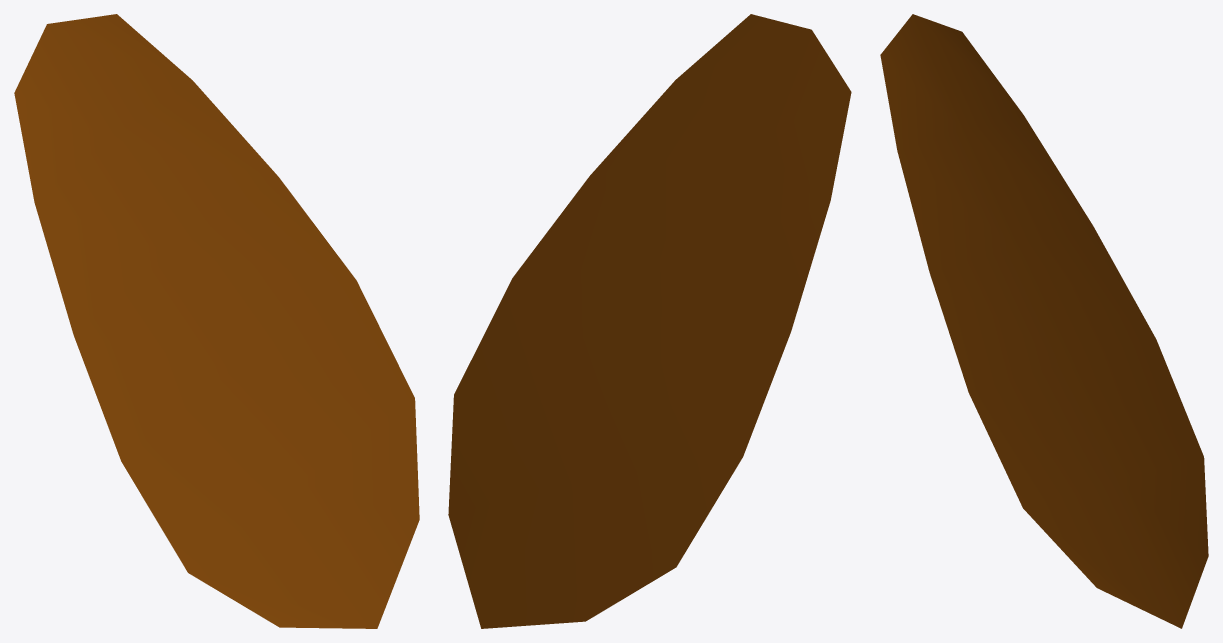
Rendered from ara_feather_flight_secondary_027.obj.
3 renders of one model, left to right at view 1: azimuth 30°, elevation 25°; view 2: azimuth 150°, elevation 25°; view 3: azimuth 330°, elevation 25°, orthographic. The views are drawn at different scales.
Visible parts, largest first — view 1: feather_flight_secondary_027; view 2: feather_flight_secondary_027; view 3: feather_flight_secondary_027.
Part boxes in pixels (left/top/right/bottom): feather_flight_secondary_027: left=14, top=14, right=419, bottom=628; feather_flight_secondary_027: left=448, top=14, right=851, bottom=628; feather_flight_secondary_027: left=880, top=14, right=1208, bottom=628.
Size of the model in its own units: 0.0421 by 0.068 by 0.00122.
